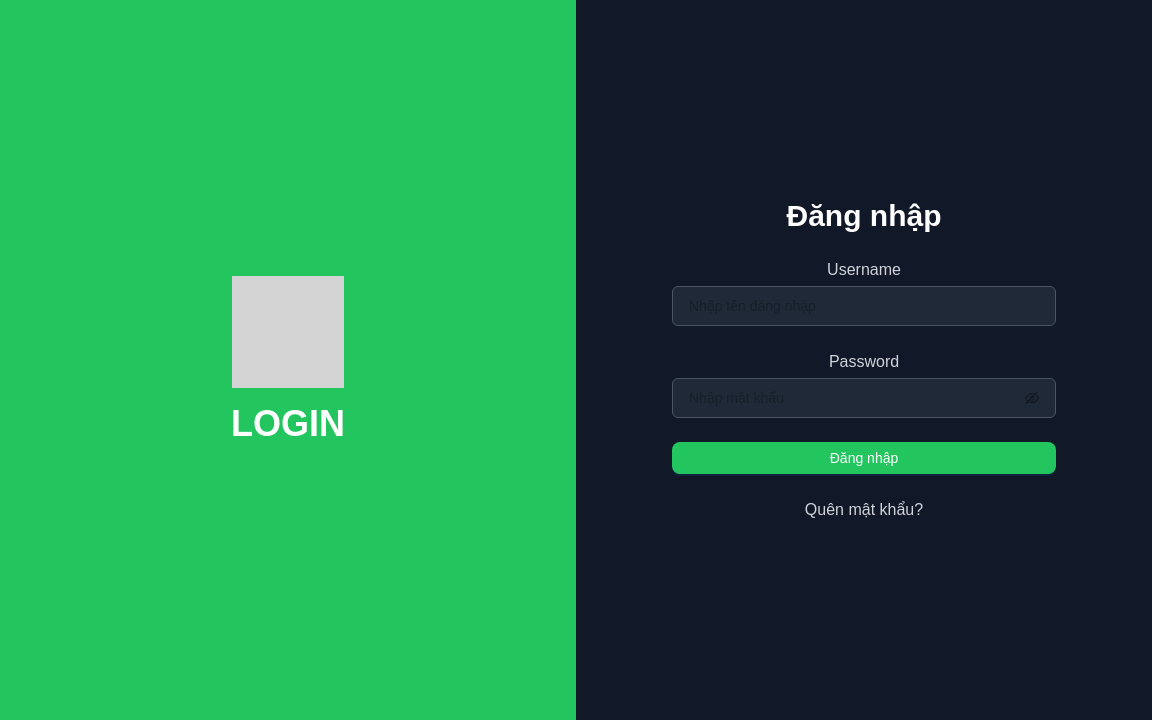
Test: Login Page › should show validation error when fields are empty
Click the button "Đăng nhập": (864, 458) [672,442,1056,474]
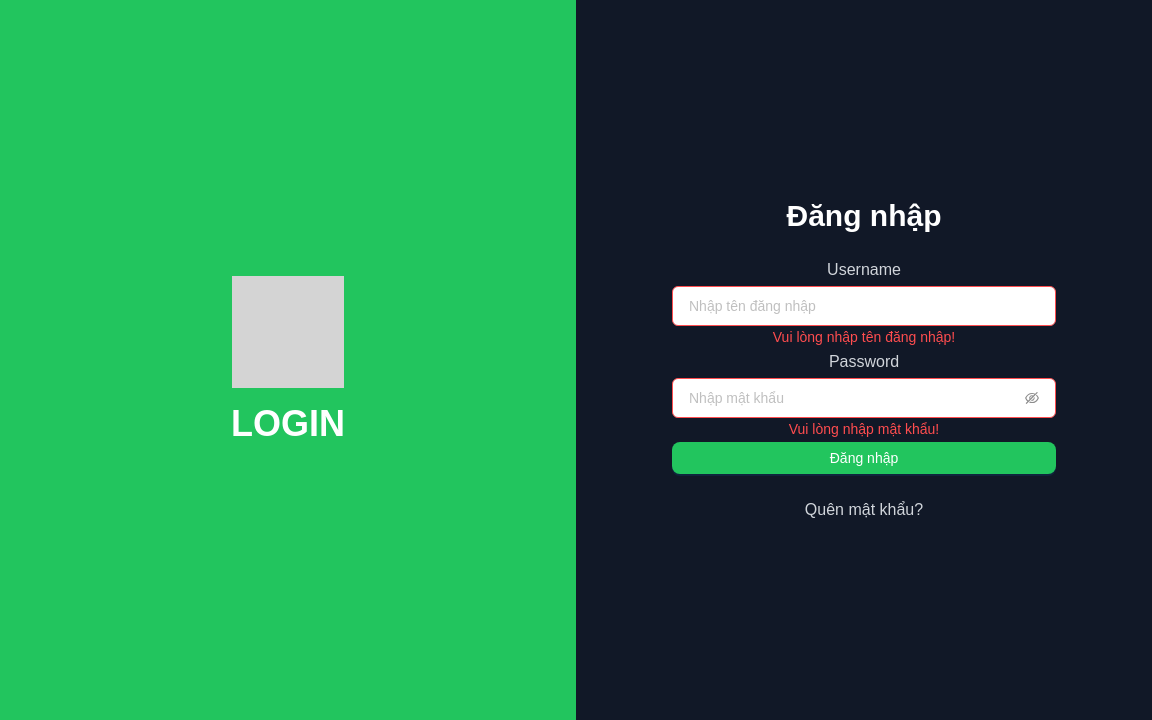
Expected: the text "Vui lòng nhập tên đăng nhập!" is shown, [773,329,955,345]
